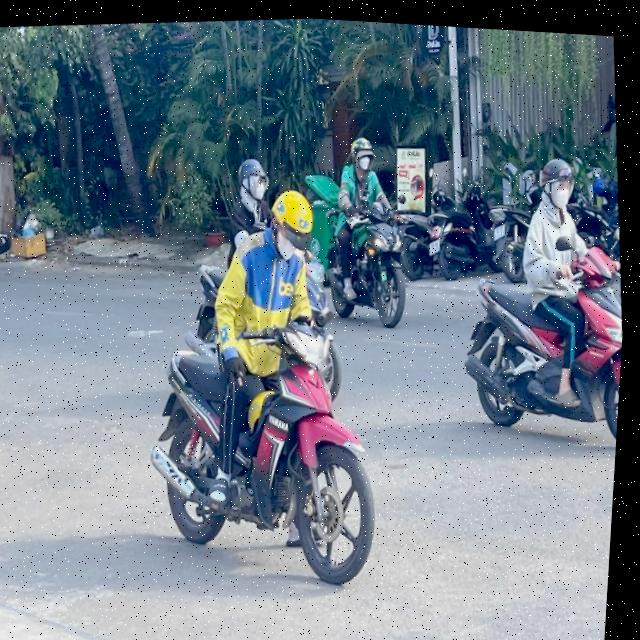motorcycle: (125, 297, 393, 604), (443, 211, 629, 468), (323, 193, 424, 334)
